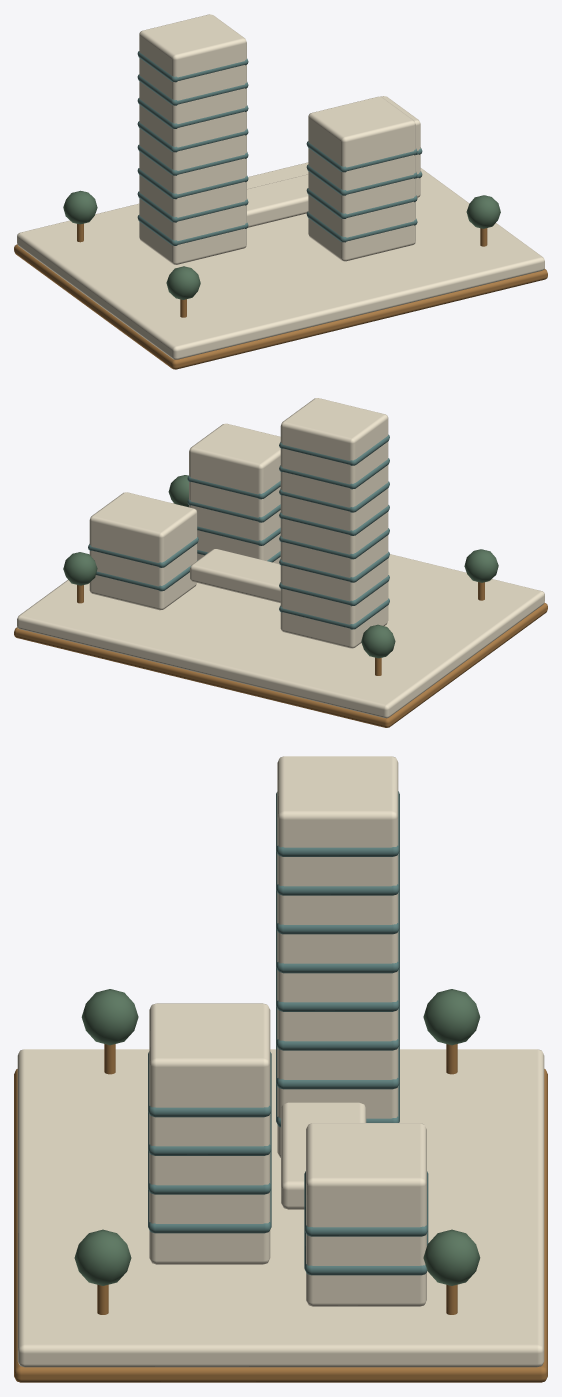
The model's file is campus.glb.
The picture shows the model from 3 angles, top to bottom: view 1: azimuth 30°, elevation 25°; view 2: azimuth 150°, elevation 25°; view 3: azimuth 270°, elevation 25°; orthographic projection. The views are drawn at different scales.
Parts seen in each view (by area): view 1: campus; view 2: campus; view 3: campus.
Boxes of the visible parts, box(x1,y1,x2,y2) form: campus: box(14, 14, 547, 369); campus: box(14, 398, 547, 727); campus: box(14, 756, 547, 1382).
Bounding box in the file's own units: 5.05 × 3.05 × 3.75.
